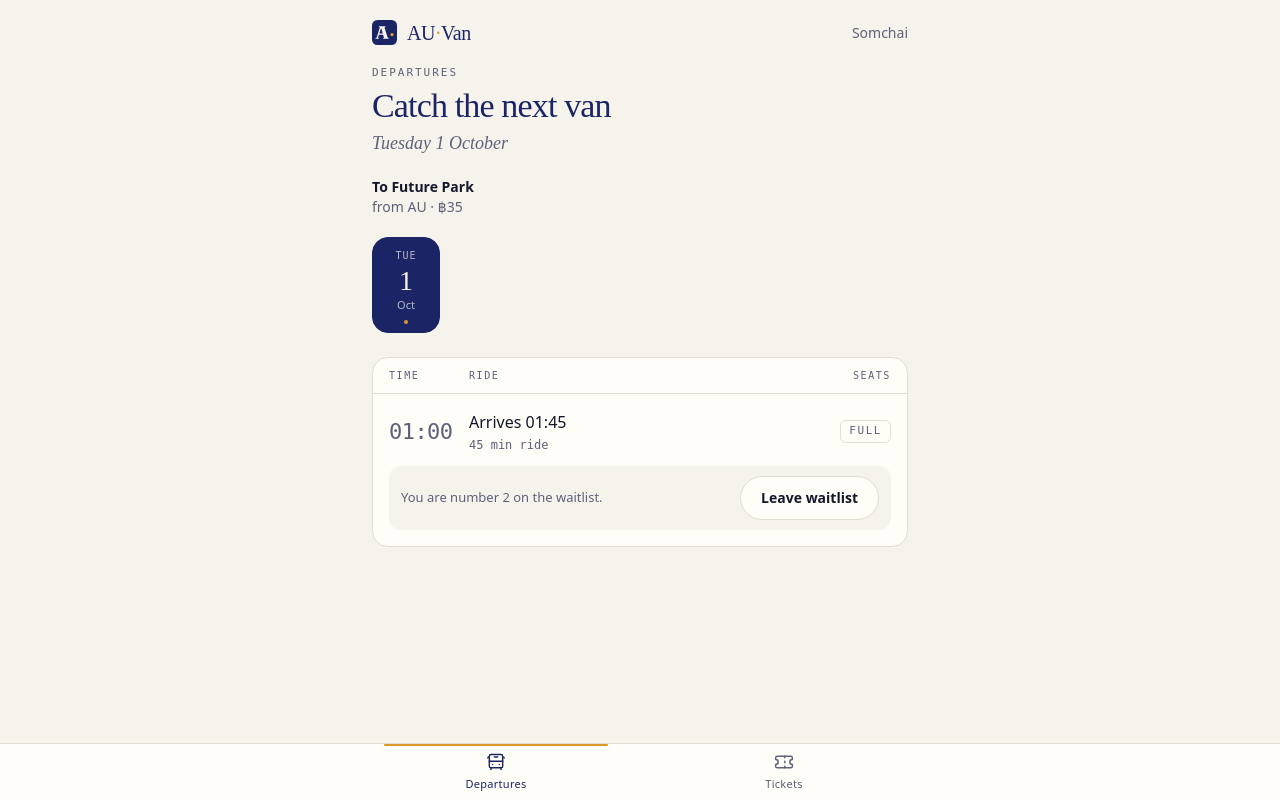
Test: Student app waitlist › leaves the waitlist through POST /leave, never DELETE
Click the button "Leave waitlist" at (810, 498), box top-left (740, 476), bottom-right (879, 520)
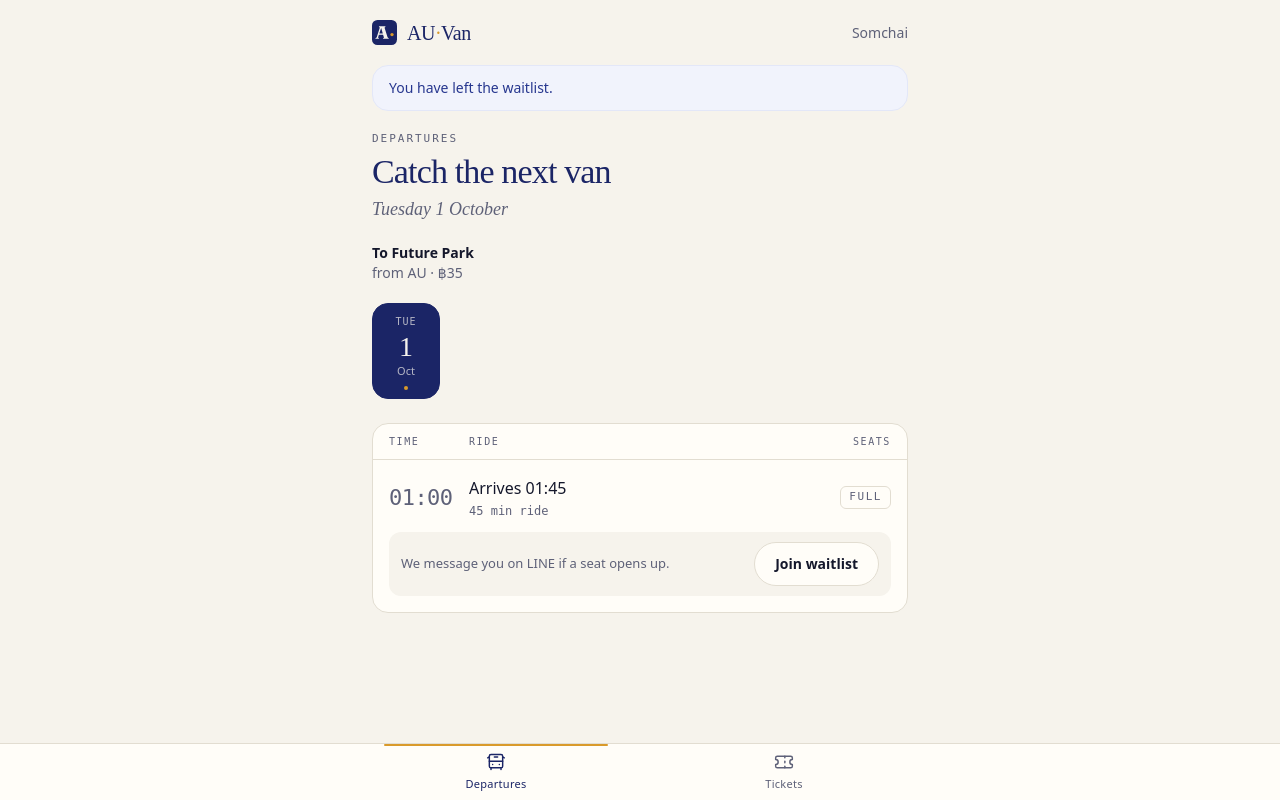
Result: the text "You have left the waitlist." is shown at top-left (372, 65), bottom-right (908, 111)
Result: the button "Join waitlist" is shown at top-left (754, 542), bottom-right (879, 586)
